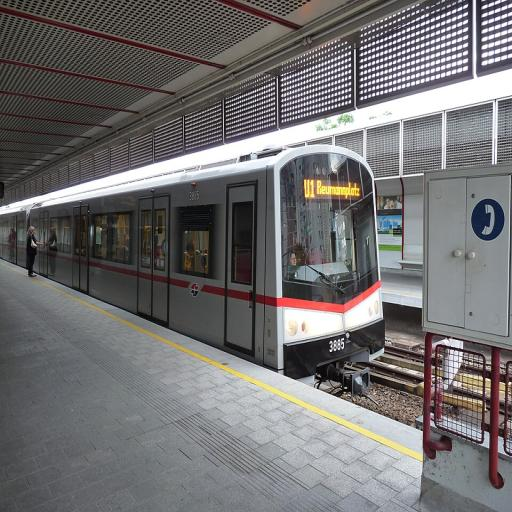V-Wagen: (1, 136, 389, 388)
